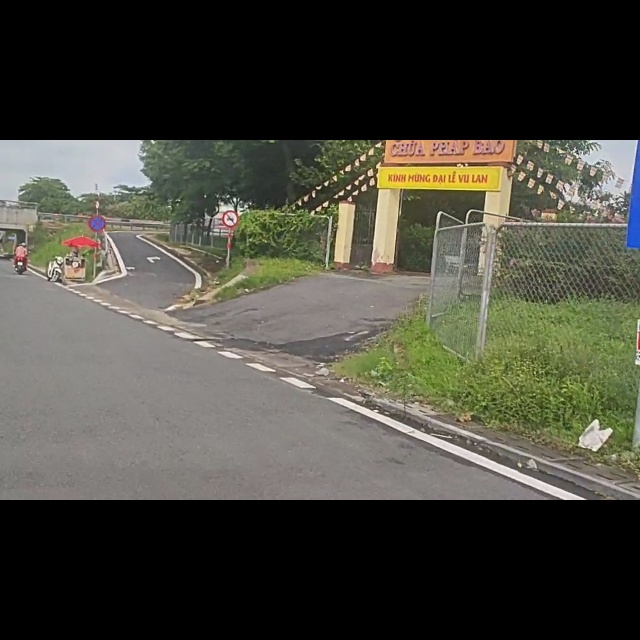bien_cam: (88, 133, 107, 164), (222, 124, 239, 156)
